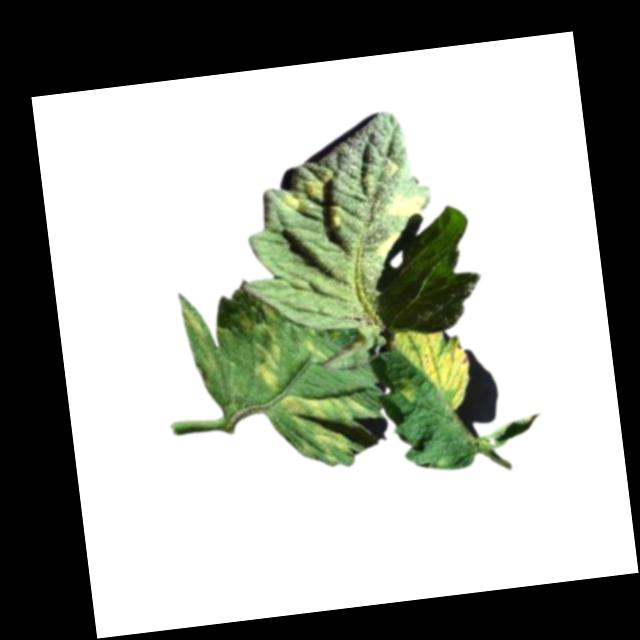Leaf_Mold: (393, 321, 475, 414), (276, 382, 372, 459), (248, 320, 290, 395), (381, 186, 428, 219), (305, 169, 335, 204), (281, 188, 301, 211)
